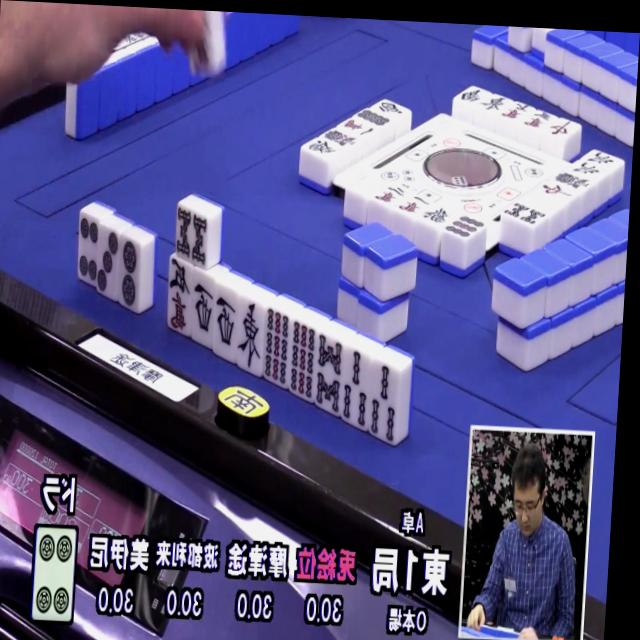east: (235, 301, 266, 377)
m5: (164, 258, 195, 336)
s3: (360, 359, 401, 444), (338, 347, 372, 431)
s8: (312, 335, 348, 416), (175, 209, 208, 262)
s9: (285, 322, 319, 403), (258, 307, 291, 388)
t2: (113, 238, 144, 313)
t3: (93, 228, 121, 298)
t4: (27, 527, 75, 623), (74, 213, 103, 289)
t9: (441, 215, 486, 243)
west: (211, 288, 240, 355), (187, 275, 215, 343)
